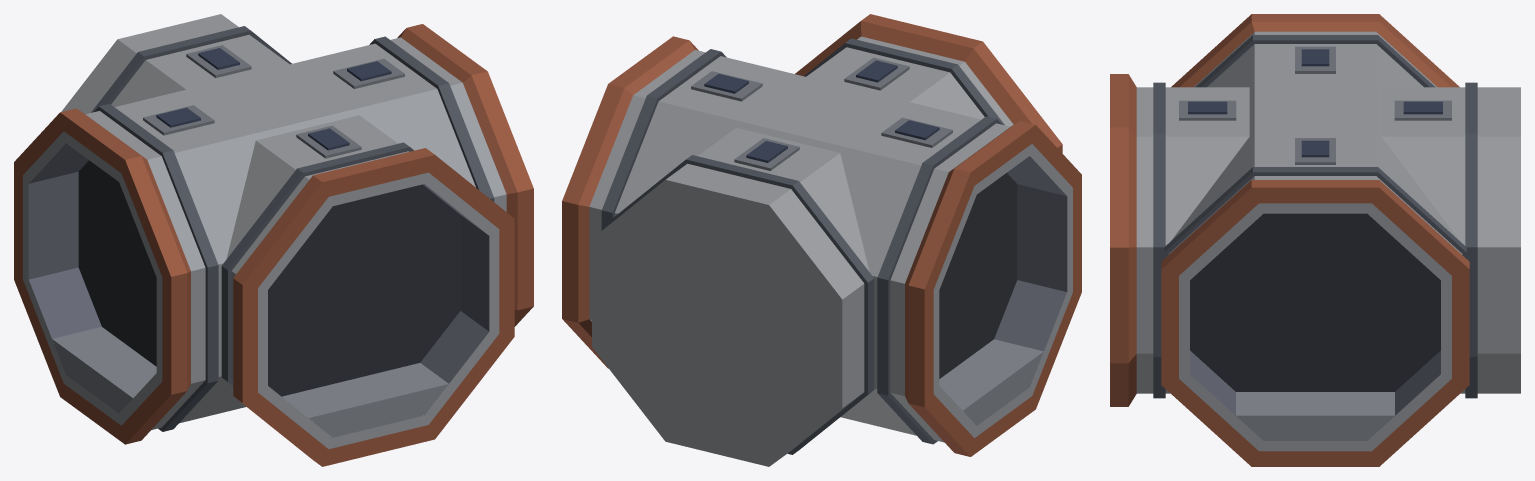
Rendered from corridor-t-junction-237109.glb.
3 renders of one model, left to right at view 1: azimuth 30°, elevation 25°; view 2: azimuth 150°, elevation 25°; view 3: azimuth 270°, elevation 25°, orthographic.
Parts seen in each view (by area): view 1: corridor-t-junction; view 2: corridor-t-junction; view 3: corridor-t-junction.
Boxes of the visible parts, x1,y1,x2,y2 form: corridor-t-junction: (14, 14, 533, 466); corridor-t-junction: (562, 14, 1081, 466); corridor-t-junction: (1110, 14, 1520, 466).
Size of the model in its own units: 4 by 3 by 4.
